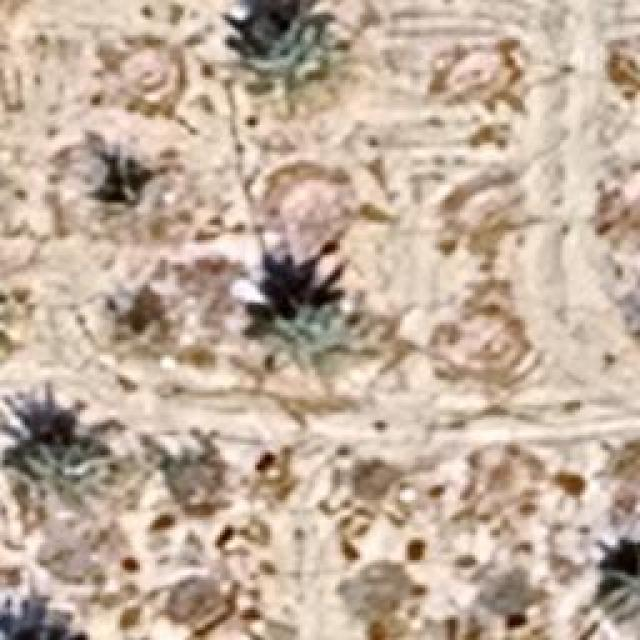PalmTree: (96, 88, 306, 322), (0, 429, 102, 512), (232, 8, 328, 72), (95, 88, 134, 192), (0, 604, 88, 640), (0, 281, 31, 366), (608, 565, 638, 633), (0, 618, 91, 640), (0, 279, 19, 371)
